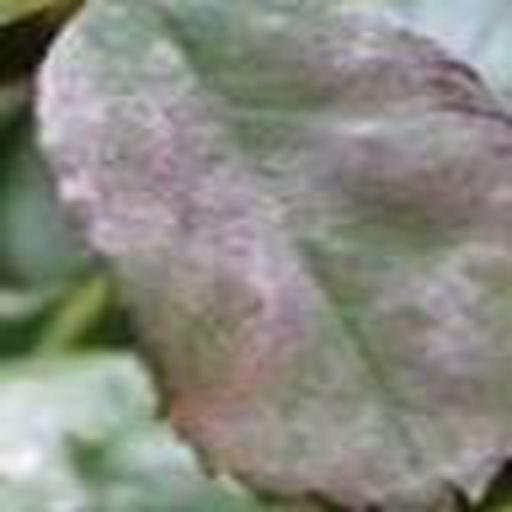powdery_mildew: (36, 0, 512, 512)
